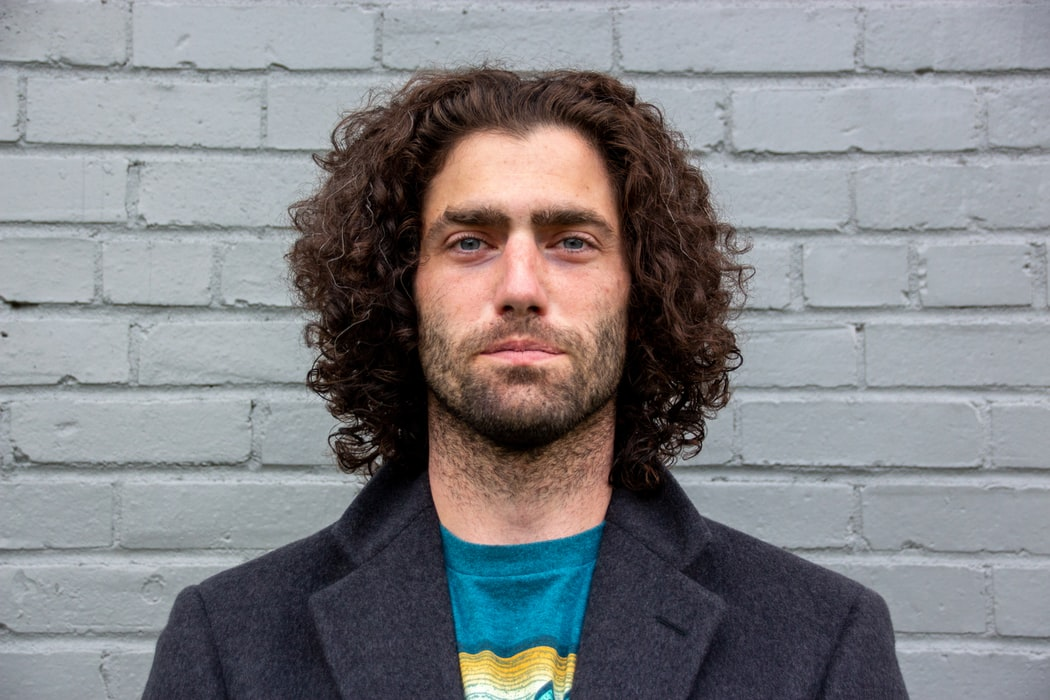beard: (413, 299, 639, 452)
